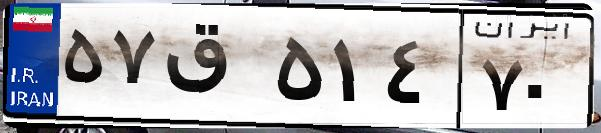0: (525, 38, 570, 115)
1: (330, 28, 385, 110)
4: (385, 28, 445, 110)
5: (270, 28, 330, 110), (57, 26, 110, 100)
7: (475, 38, 525, 113), (110, 28, 158, 98)
ق: (158, 20, 270, 120)
